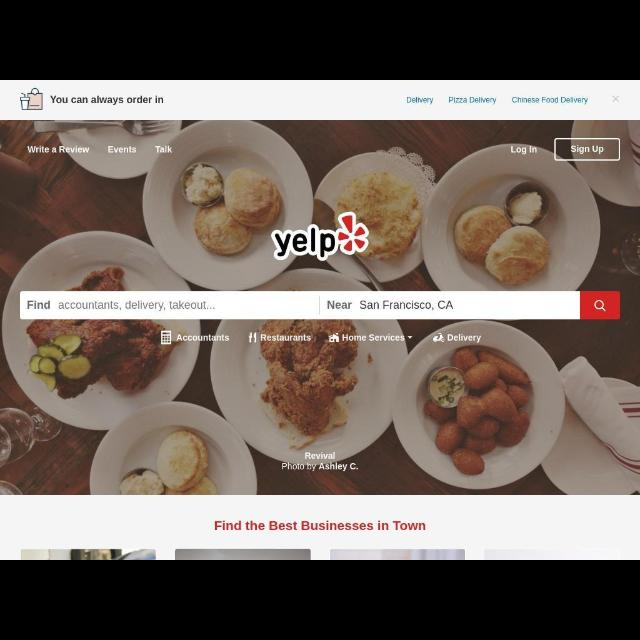backgroundimage: (1, 122, 639, 494)
button: (581, 292, 619, 318)
icon: (162, 330, 172, 346), (432, 331, 444, 344), (595, 300, 607, 312), (247, 332, 257, 343), (611, 94, 619, 102), (408, 335, 412, 339)
image: (272, 212, 370, 260), (19, 86, 43, 112)
input: (21, 292, 321, 320), (322, 290, 580, 320)
text: (216, 519, 428, 533), (328, 298, 452, 312), (283, 451, 359, 472), (50, 94, 166, 106), (59, 302, 218, 310), (512, 94, 588, 106), (26, 144, 90, 154), (342, 333, 406, 343), (448, 96, 498, 106), (178, 334, 228, 344), (261, 332, 311, 342), (508, 144, 538, 156), (448, 332, 480, 343), (570, 145, 604, 155), (404, 95, 436, 105), (28, 298, 50, 312), (107, 146, 137, 154), (155, 144, 173, 156)
textbutton: (555, 140, 619, 160)
